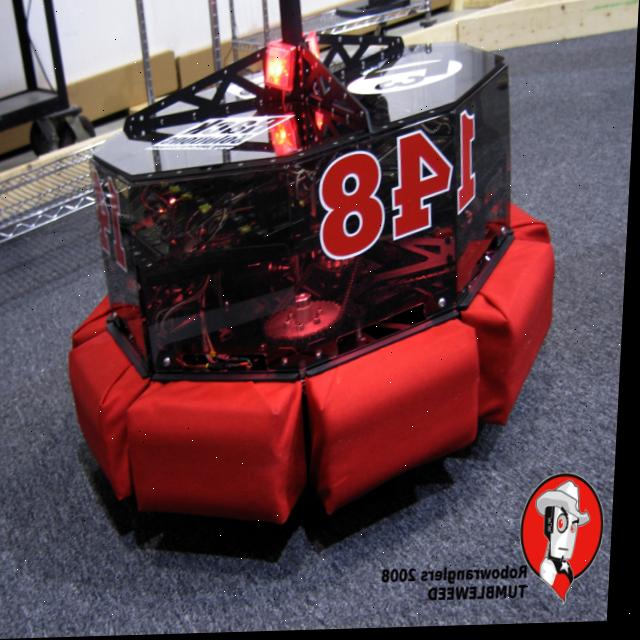robot: (51, 0, 577, 537)
